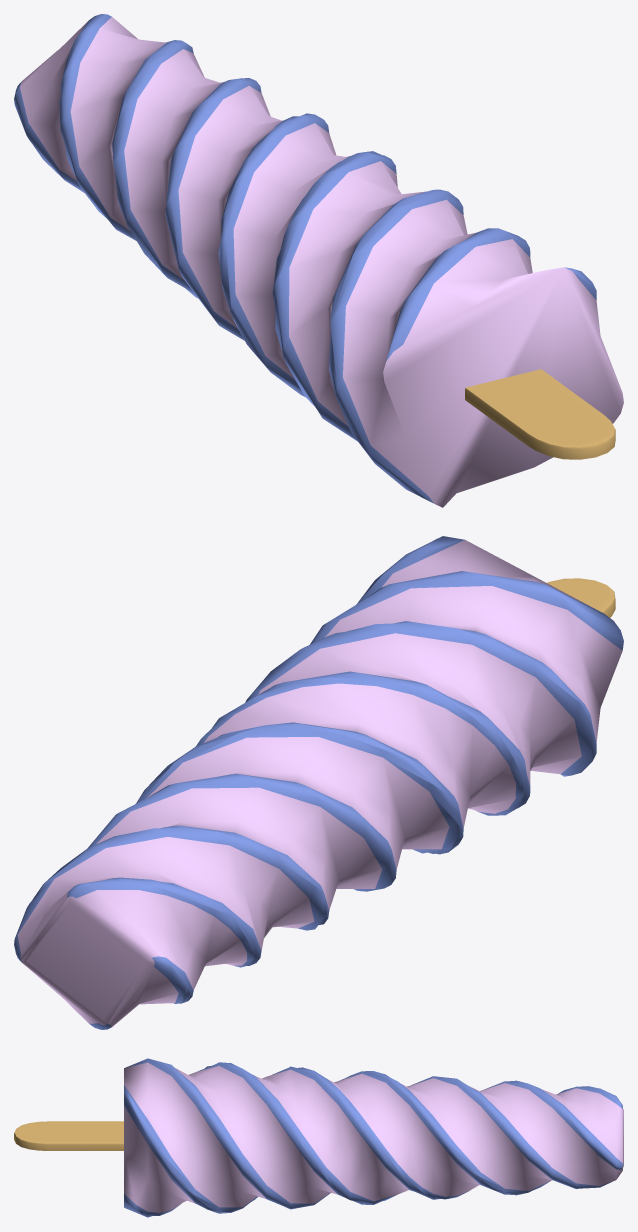
Rendered from popsicle4.fbx.
The picture shows the model from 3 angles, top to bottom: view 1: azimuth 30°, elevation 25°; view 2: azimuth 150°, elevation 25°; view 3: azimuth 270°, elevation 25°; orthographic projection. The views are drawn at different scales.
Visible parts, largest first — view 1: popsicle2, stick; view 2: popsicle2, stick; view 3: popsicle2, stick.
Part boxes in pixels (box(x1,y1,x2,y2)): popsicle2: box(14, 14, 623, 507); stick: box(465, 369, 615, 459); popsicle2: box(14, 536, 623, 1029); stick: box(547, 578, 615, 617); popsicle2: box(124, 1058, 623, 1217); stick: box(14, 1121, 123, 1150).
Bounding box in the file's own units: 20.85 × 17.93 × 71.77.
